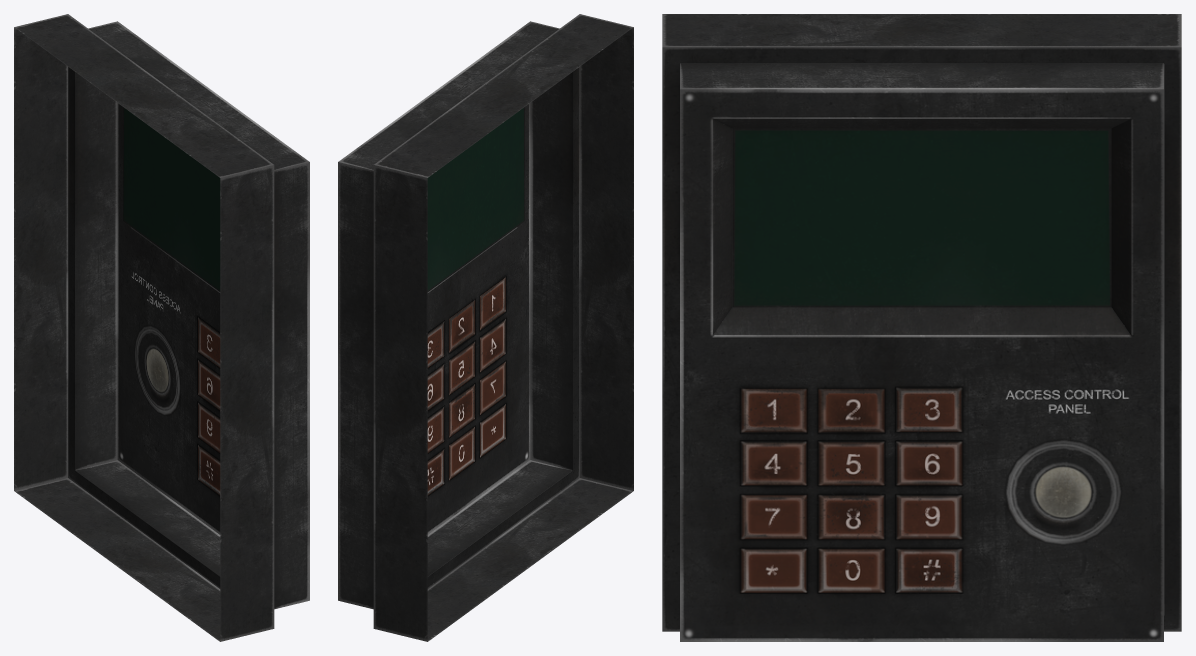
Rendered from AccesPanel.fbx.
3 views of the same model, side by side, from view 1: azimuth 30°, elevation 25°; view 2: azimuth 150°, elevation 25°; view 3: azimuth 270°, elevation 25° (orthographic). The views are drawn at different scales.
Visible parts, largest first — view 1: Object_2; view 2: Object_2; view 3: Object_2.
Part boxes in pixels (box(x1,y1,x2,y2)): Object_2: box(14, 14, 309, 641); Object_2: box(338, 14, 633, 641); Object_2: box(662, 14, 1181, 641).
Bounding box in the file's own units: 104 × 478 × 385.
2 materials, 2 textured.
